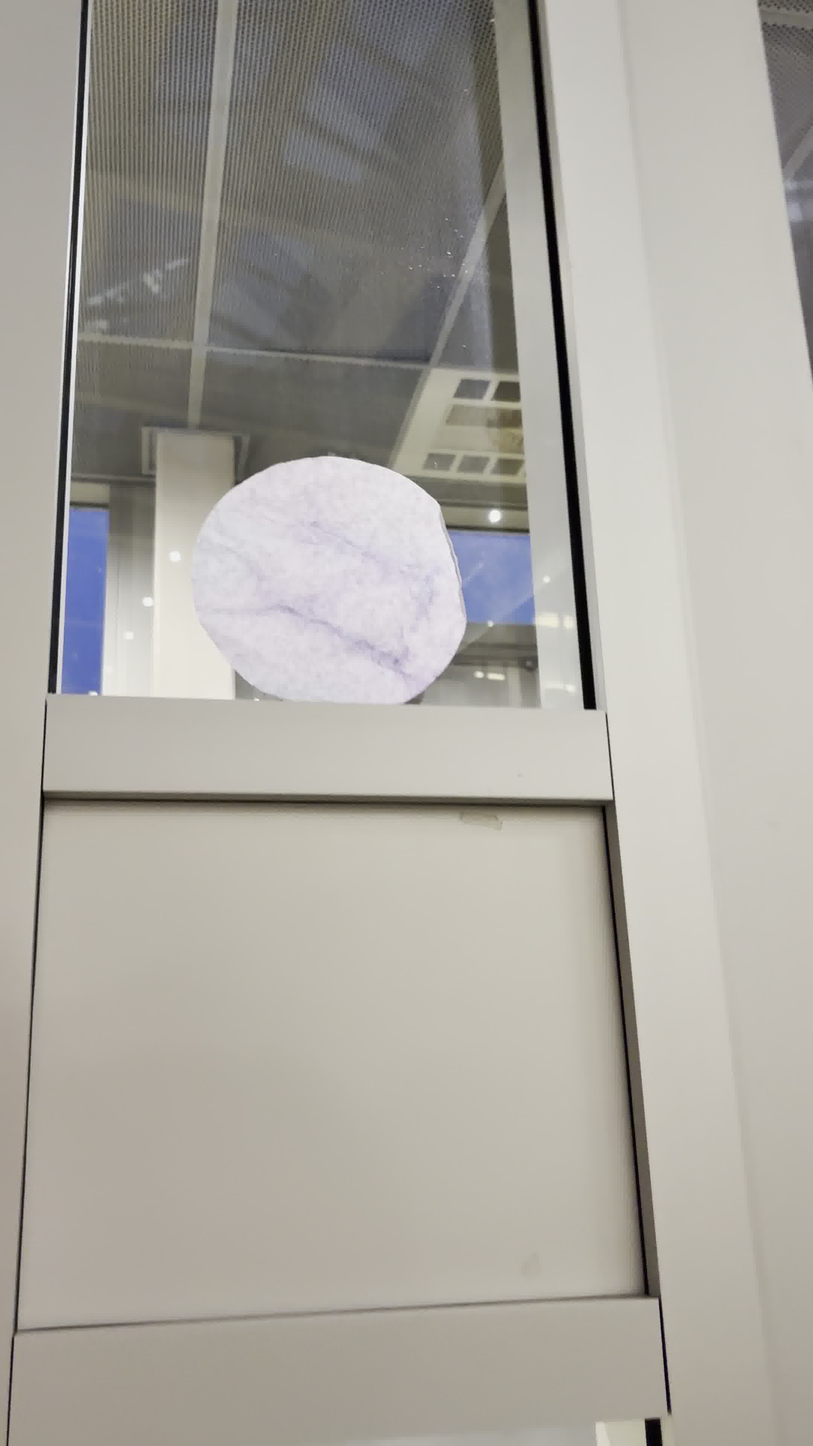Target: (183, 452, 466, 712)
